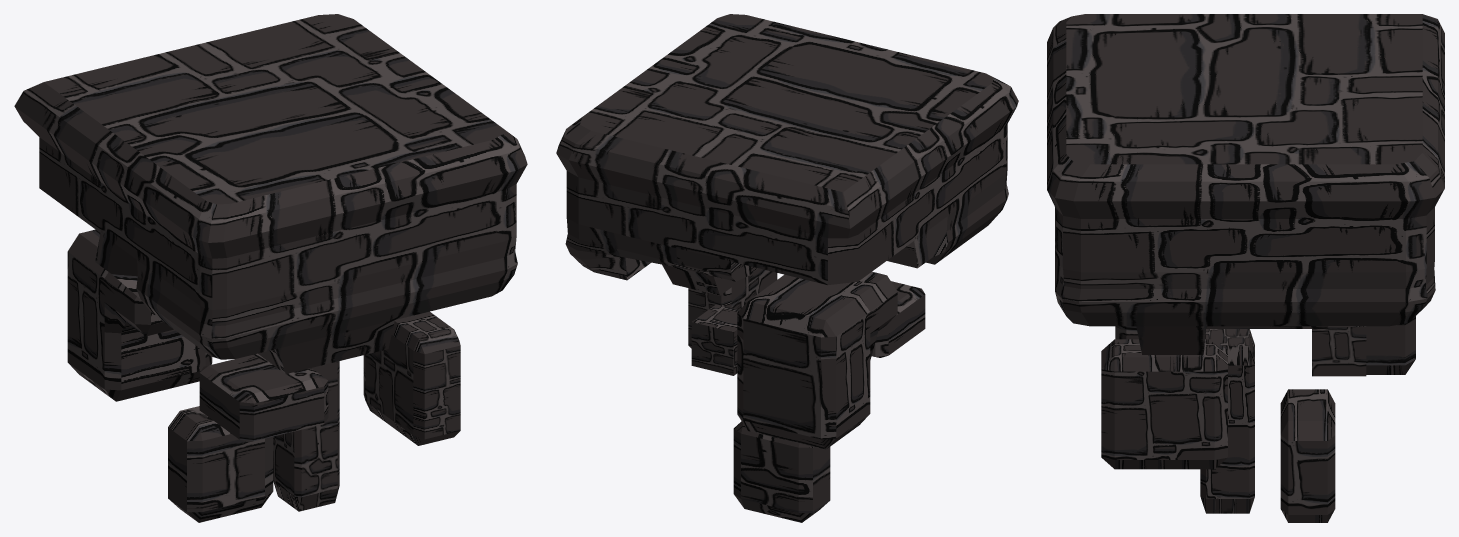
Rendered from rock.fbx.
3 renders of one model, left to right at view 1: azimuth 30°, elevation 25°; view 2: azimuth 150°, elevation 25°; view 3: azimuth 270°, elevation 25°, orthographic. The views are drawn at different scales.
Visible parts, largest first — view 1: Cube.001, Cube.002, Cube.003, Cube.007, Cube.006, Cube.004; view 2: Cube.001, Cube.002, Cube.007, Cube.005, Cube.006, Cube.003; view 3: Cube.001, Cube.003, Cube.007, Cube.004, Cube.005, Cube.002.
Part boxes in pixels (x1=…): Cube.001: x1=14, y1=14, x2=527, y2=373; Cube.002: x1=67, y1=229, x2=212, y2=401; Cube.003: x1=363, y1=311, x2=460, y2=445; Cube.007: x1=168, y1=406, x2=273, y2=522; Cube.006: x1=199, y1=353, x2=328, y2=442; Cube.004: x1=273, y1=361, x2=339, y2=511; Cube.001: x1=556, y1=14, x2=1018, y2=295; Cube.002: x1=737, y1=271, x2=897, y2=449; Cube.007: x1=733, y1=421, x2=830, y2=522; Cube.005: x1=691, y1=304, x2=739, y2=375; Cube.006: x1=871, y1=281, x2=925, y2=357; Cube.003: x1=688, y1=268, x2=777, y2=348; Cube.001: x1=1047, y1=14, x2=1444, y2=354; Cube.003: x1=1101, y1=339, x2=1227, y2=469; Cube.007: x1=1280, y1=389, x2=1335, y2=522; Cube.004: x1=1200, y1=329, x2=1254, y2=513; Cube.005: x1=1312, y1=326, x2=1366, y2=376; Cube.002: x1=1366, y1=316, x2=1415, y2=374.
Bounding box in the file's own units: 1457 × 1744 × 1457.
